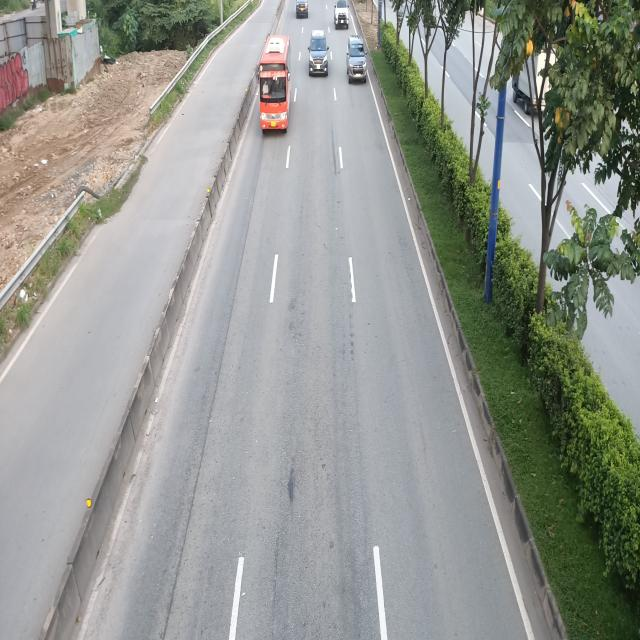car: (308, 31, 330, 78), (346, 37, 368, 84)
coach: (256, 32, 293, 132)
